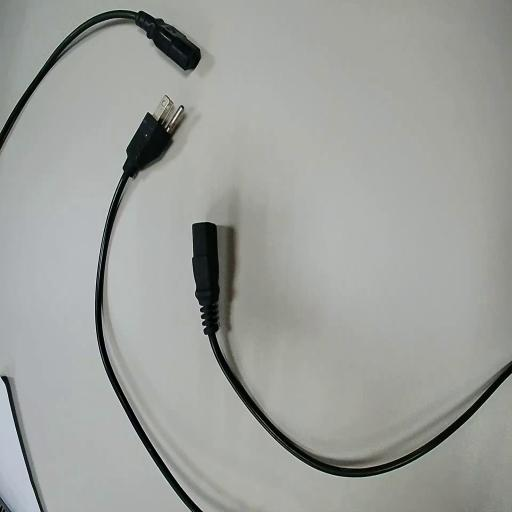wire: (193, 223, 511, 475), (96, 114, 200, 511), (0, 11, 199, 146)
